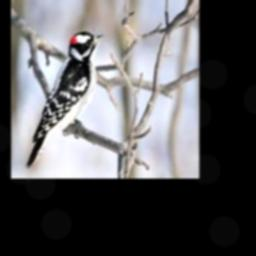Woodpecker: (26, 32, 105, 169)
